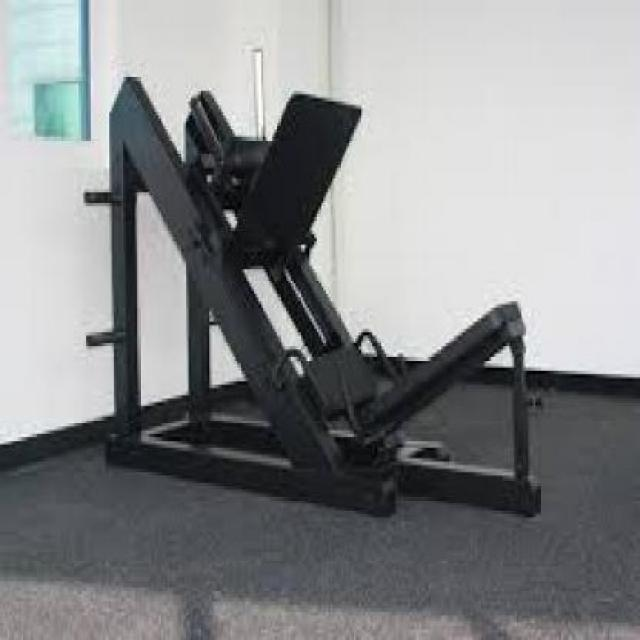leg press: (72, 31, 558, 534)
